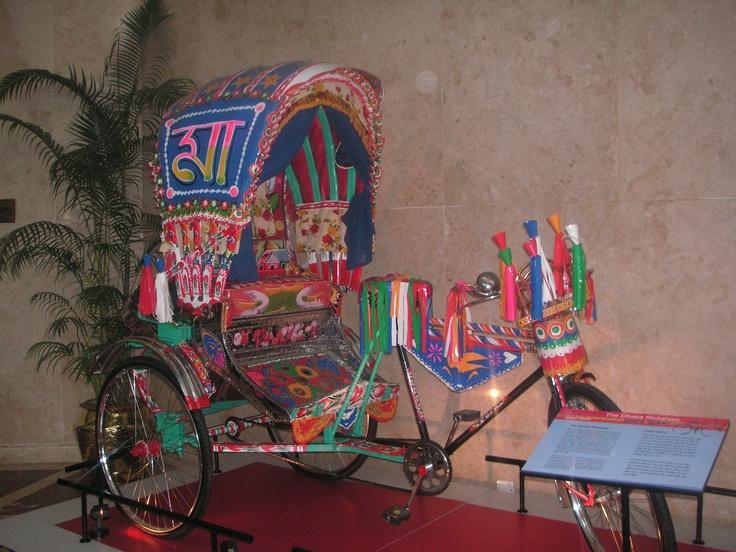Rickshaw: (95, 62, 538, 517)
